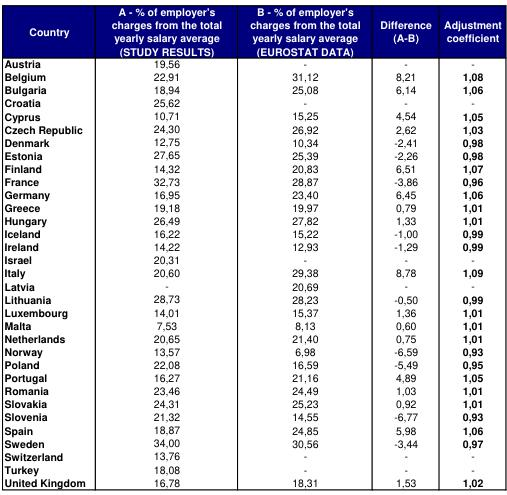table: (3, 3, 500, 489)
table column: (97, 3, 235, 489), (235, 3, 369, 489), (3, 3, 97, 489), (369, 3, 436, 489), (436, 3, 500, 489)
table column header: (3, 3, 500, 56)
table row: (3, 3, 500, 56), (3, 134, 500, 148), (3, 278, 500, 292), (3, 435, 500, 449), (3, 475, 500, 489), (3, 56, 500, 69), (3, 69, 500, 82), (3, 82, 500, 95), (3, 95, 500, 108), (3, 108, 500, 121), (3, 121, 500, 134), (3, 148, 500, 161), (3, 161, 500, 174), (3, 174, 500, 187), (3, 187, 500, 200), (3, 200, 500, 213), (3, 213, 500, 226), (3, 226, 500, 239), (3, 239, 500, 252), (3, 252, 500, 265), (3, 265, 500, 278), (3, 292, 500, 305), (3, 305, 500, 318), (3, 318, 500, 331), (3, 331, 500, 344), (3, 344, 500, 357), (3, 357, 500, 370), (3, 370, 500, 383), (3, 383, 500, 396), (3, 396, 500, 409), (3, 409, 500, 422), (3, 422, 500, 435), (3, 449, 500, 462), (3, 462, 500, 475)
